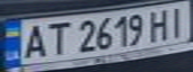1: (112, 12, 133, 47)
2: (75, 16, 96, 54)
6: (93, 15, 115, 51)
9: (127, 11, 151, 46)
A: (18, 21, 51, 60)
H: (145, 7, 175, 42)
I: (163, 3, 193, 39)
T: (39, 20, 72, 56)
